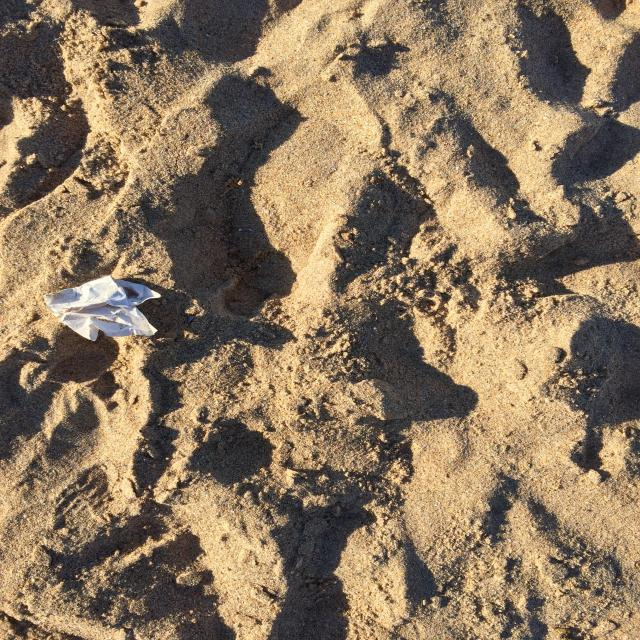Normal paper: (44, 274, 161, 341)
